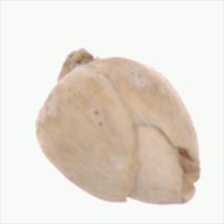L3: (123, 123, 202, 206)
L4: (36, 48, 203, 206)
